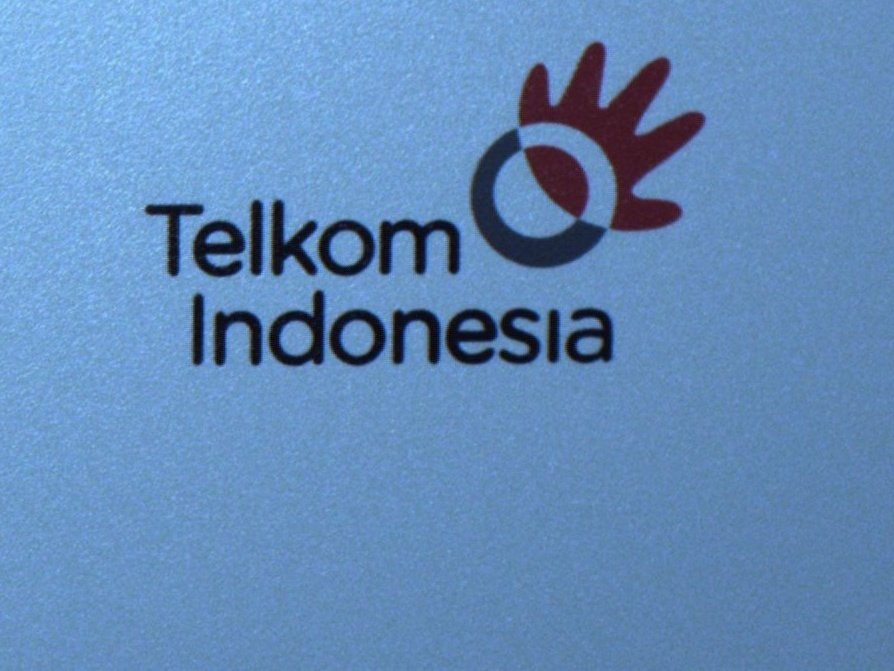BQ_IndonTelkom: (146, 39, 705, 385)
